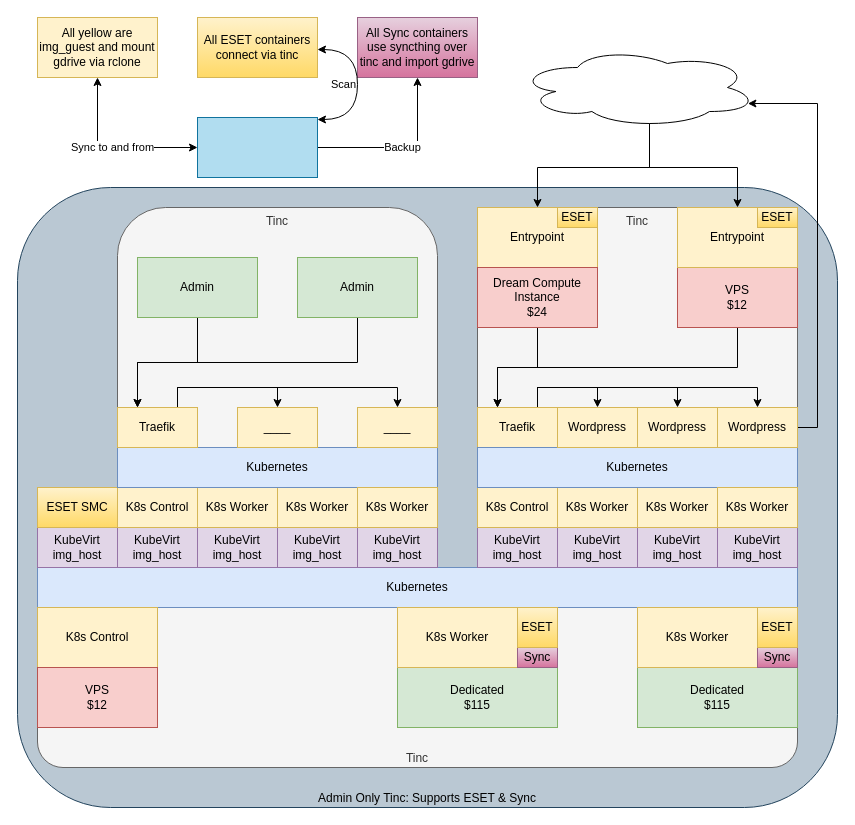
Some shapes in this 855 by 825 pixel diagram are drawn without their labels. The centre of each missing label's shape, as x and y in pixels:
"Google Drive" belongs at point 257,147.
"Outside" belongs at point 637,87.
